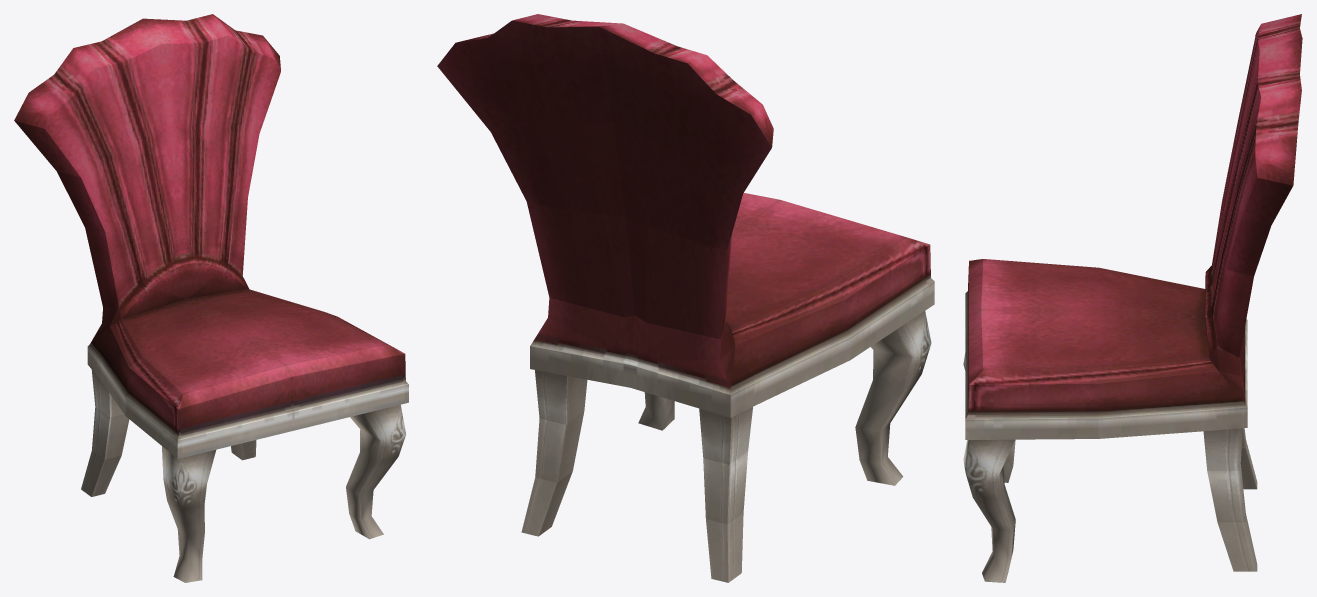
File: furni_0201112_02.FBX
3 renders of one model, left to right at view 1: azimuth 30°, elevation 25°; view 2: azimuth 150°, elevation 25°; view 3: azimuth 270°, elevation 25°, orthographic. The views are drawn at different scales.
Parts seen in each view (by area): view 1: furni_0201112_02; view 2: furni_0201112_02; view 3: furni_0201112_02.
Boxes of the visible parts, box(x1,y1,x2,y2) form: furni_0201112_02: box(14, 14, 408, 582); furni_0201112_02: box(437, 14, 934, 582); furni_0201112_02: box(963, 14, 1302, 582).
Bounding box in the file's own units: 71.5 × 112 × 70.55.
Materials: 1 (1 with a texture image).
